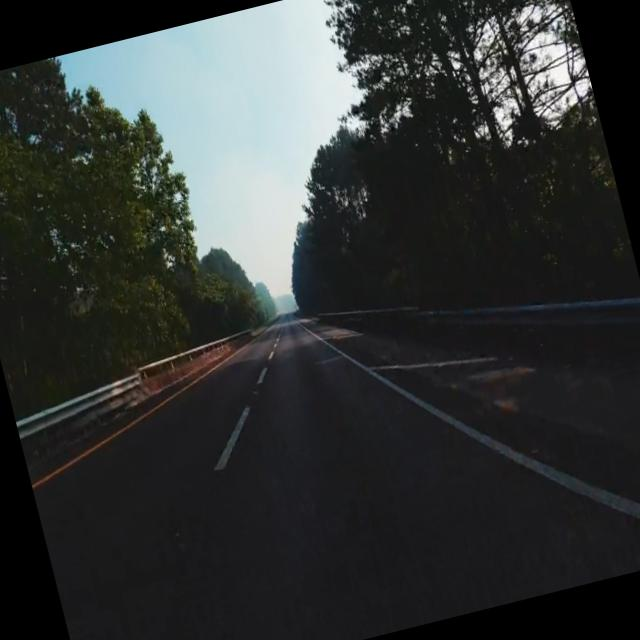asphalt: (28, 306, 640, 640)
